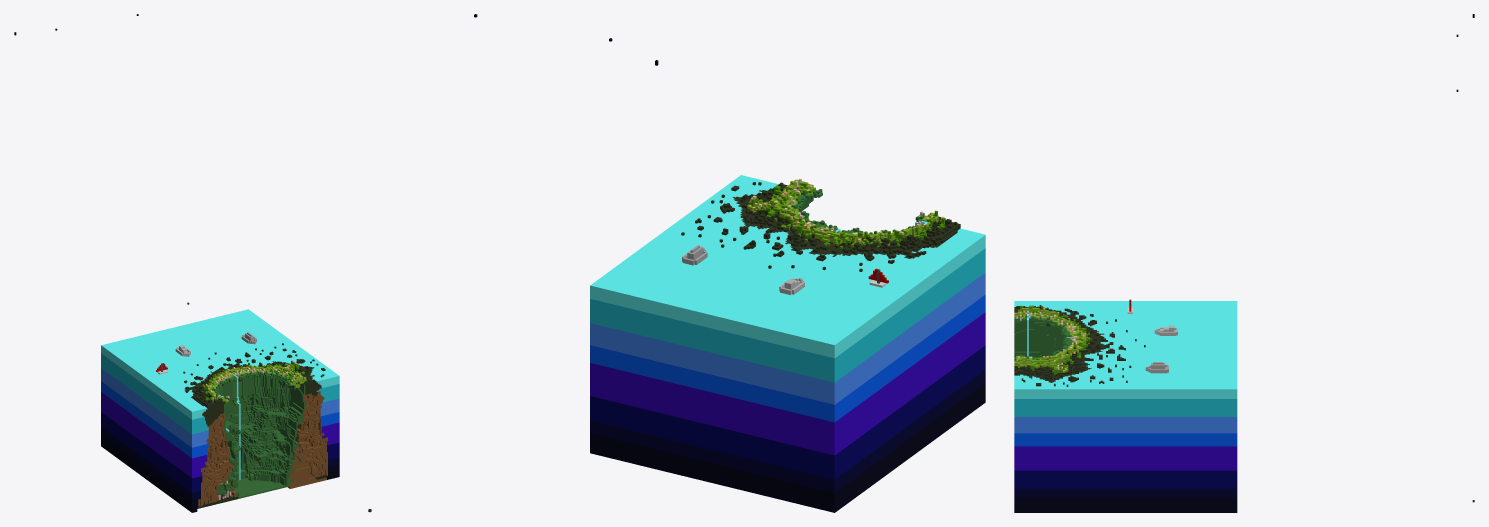
File: abyss.glb
3 views of the same model, side by side, from view 1: azimuth 30°, elevation 25°; view 2: azimuth 150°, elevation 25°; view 3: azimuth 270°, elevation 25° (orthographic). The views are drawn at different scales.
Parts seen in each view (by area): view 1: Node1; view 2: Node1; view 3: Node1.
Part boxes in pixels (x1,y1,x2,y2): Node1: (14, 14, 339, 512); Node1: (368, 14, 985, 512); Node1: (1014, 14, 1474, 512).
Size of the model in its own units: 14.5 by 25.6 by 25.6.
Materials: 1 (1 with a texture image).
